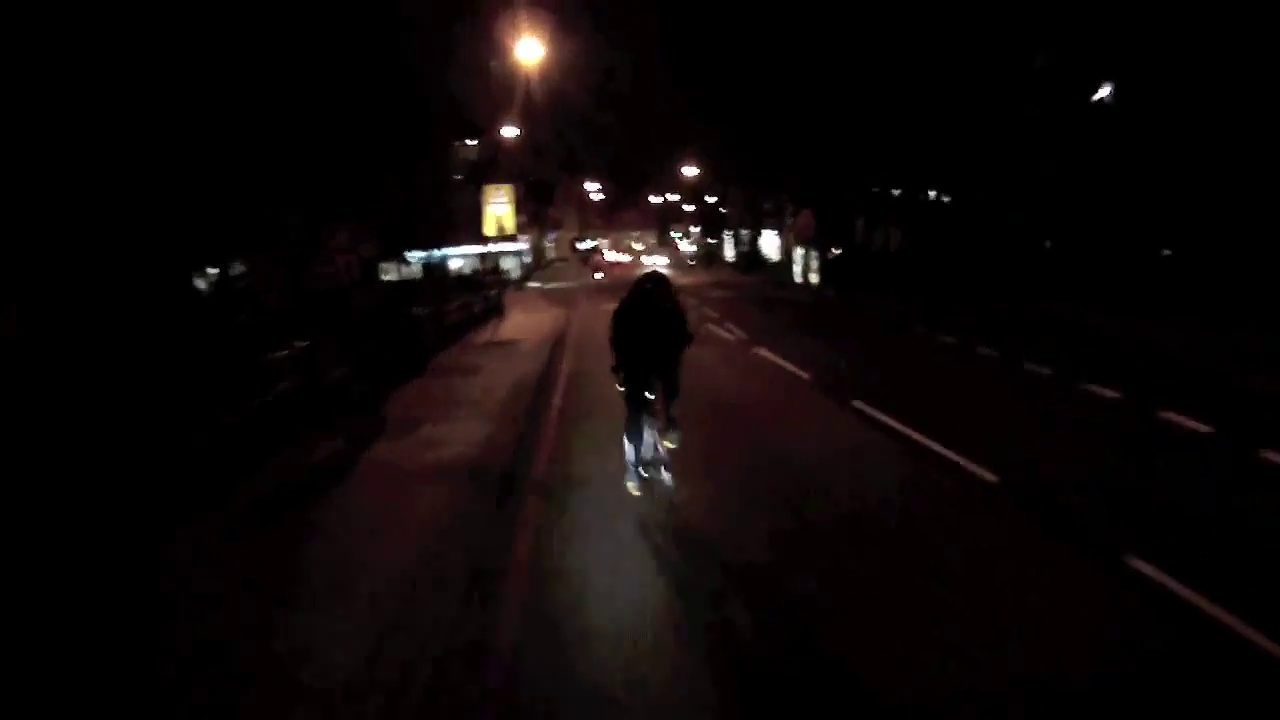cyclist_back: (600, 262, 707, 526)
